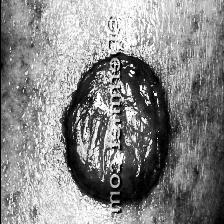Toxin: (61, 46, 170, 202)
